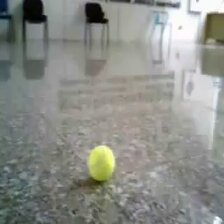tennis: (87, 144, 115, 180)
